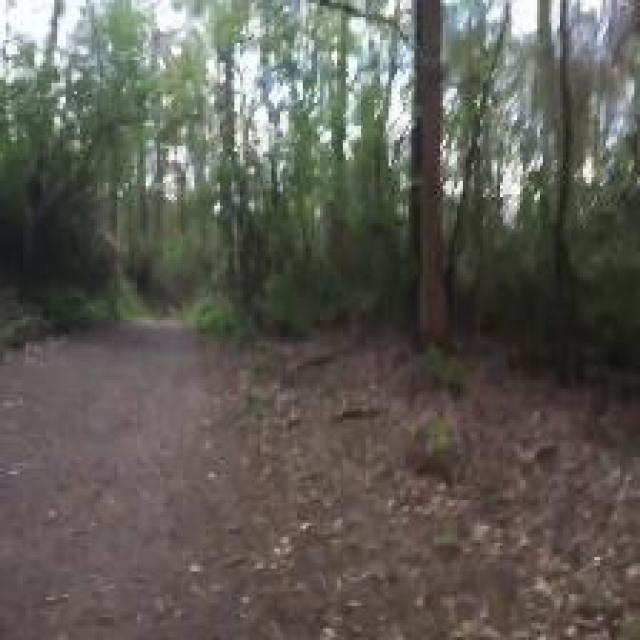other: (79, 78, 555, 206)
